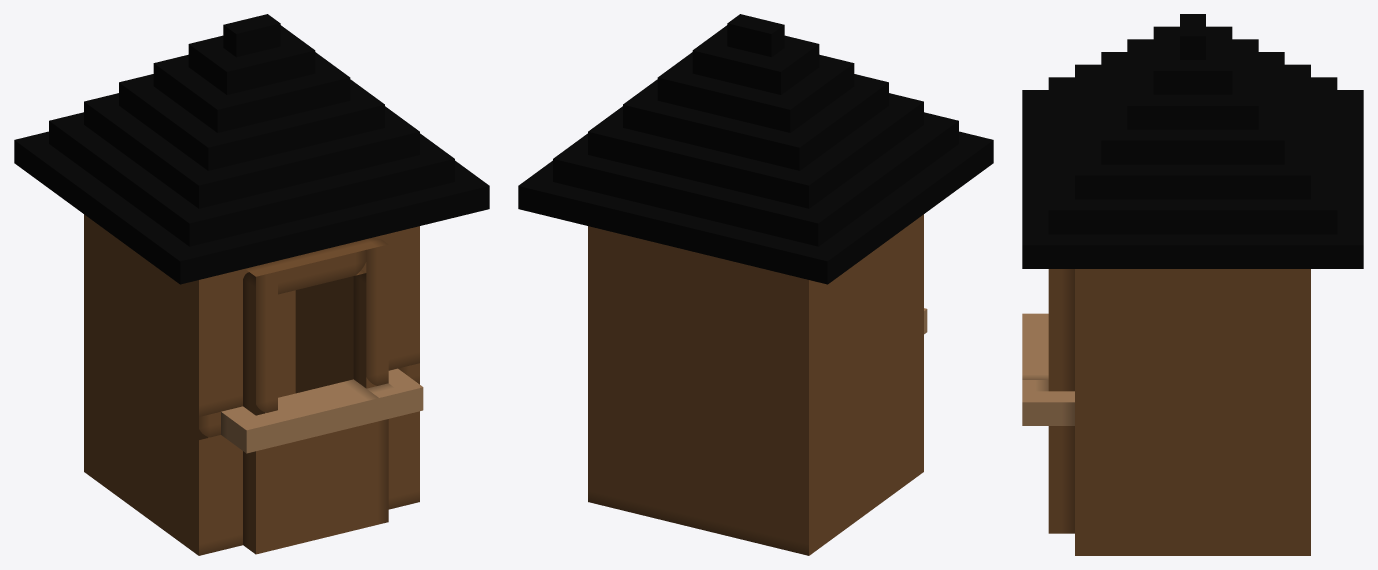
Rendered from TicketBooth.dae.
The picture shows the model from 3 angles, left to right: view 1: azimuth 30°, elevation 25°; view 2: azimuth 150°, elevation 25°; view 3: azimuth 270°, elevation 25°; orthographic projection. The views are drawn at different scales.
Visible parts, largest first — view 1: TicketBooth; view 2: TicketBooth; view 3: TicketBooth.
Part boxes in pixels (x1,y1,x2,y2): TicketBooth: [14, 14, 489, 555]; TicketBooth: [518, 14, 993, 555]; TicketBooth: [1022, 14, 1363, 555].
Size of the model in its own units: 14 by 20 by 13.
1 material, 1 textured.
